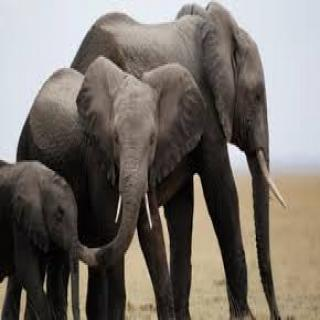Elephant: (78, 0, 289, 320), (14, 57, 210, 320), (0, 145, 83, 320)
